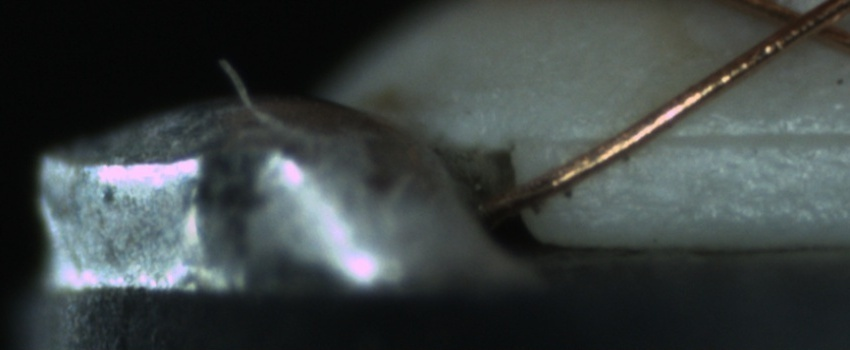CL: (763, 1, 845, 47)
DL: (557, 104, 849, 170)
